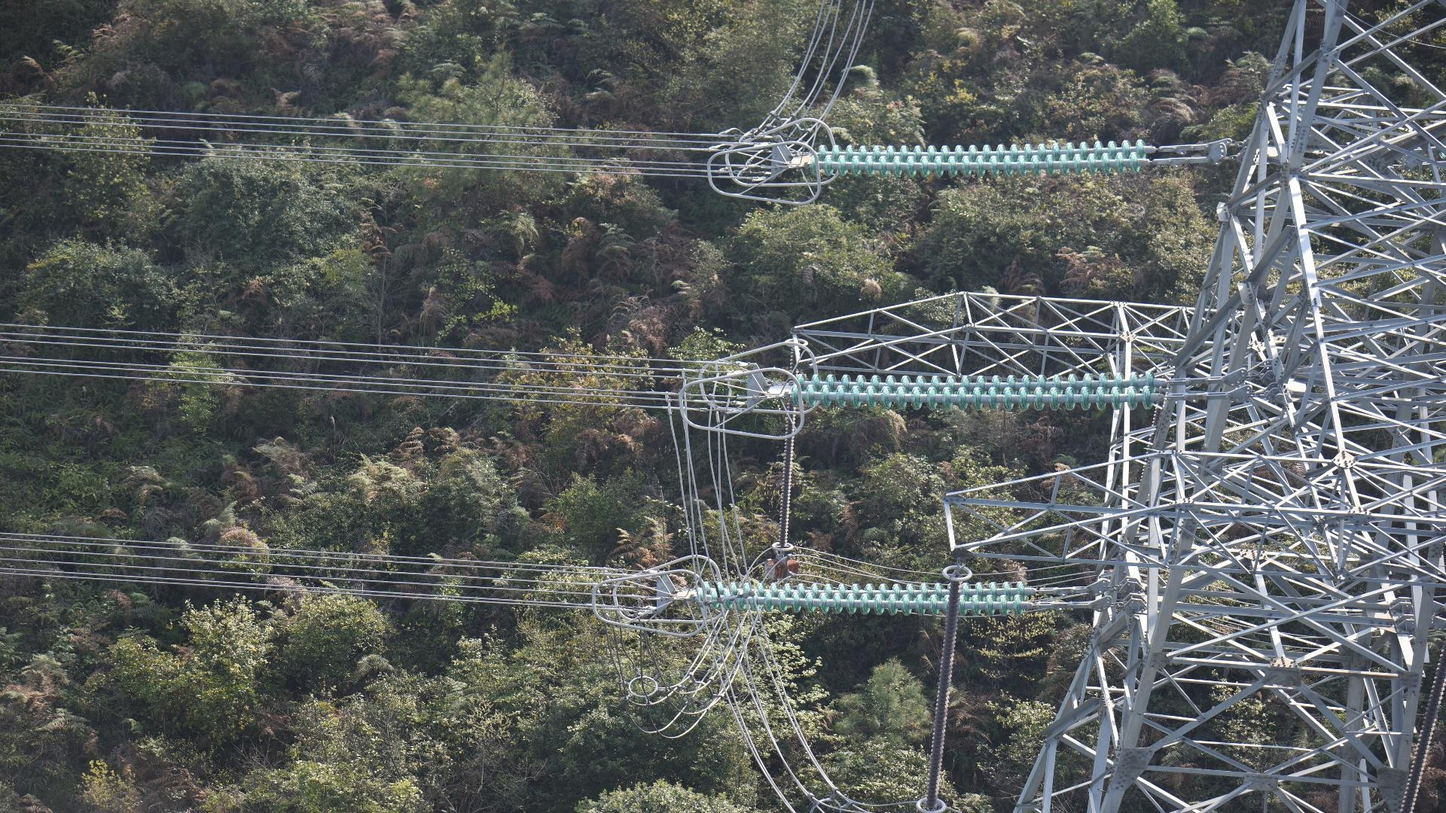insulator: (789, 368, 1158, 414), (806, 137, 1148, 181), (695, 578, 1028, 620), (923, 577, 966, 807), (1394, 645, 1446, 813), (775, 398, 799, 548)
